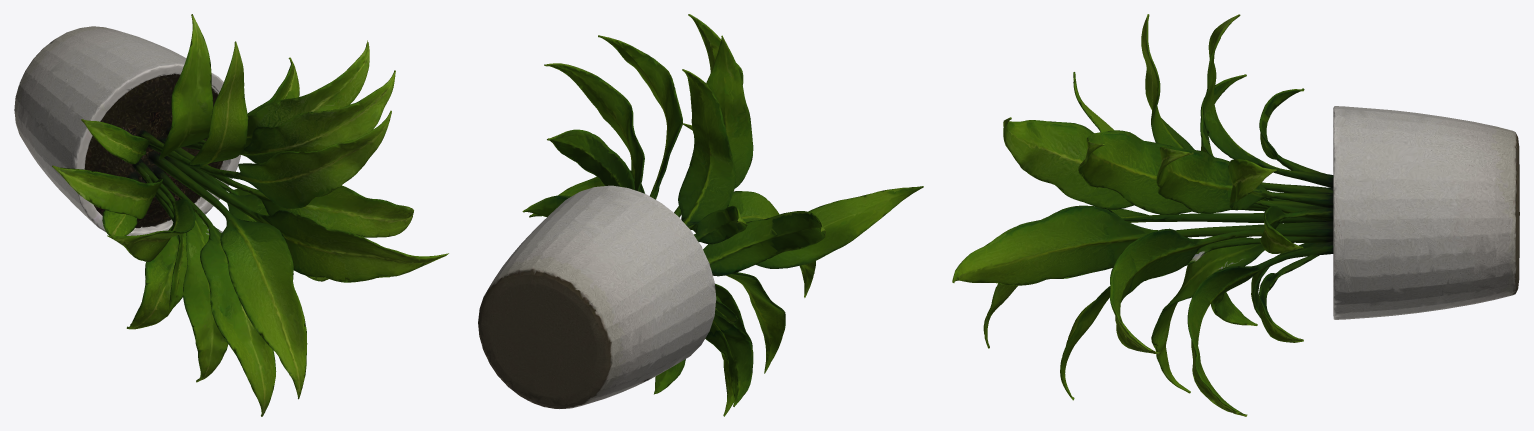
The model's file is potted_plant.glb.
3 renders of one model, left to right at view 1: azimuth 30°, elevation 25°; view 2: azimuth 150°, elevation 25°; view 3: azimuth 270°, elevation 25°, orthographic. The views are drawn at different scales.
Parts seen in each view (by area): view 1: Object_2, Object_3; view 2: Object_2, Object_3; view 3: Object_2, Object_3.
Part boxes in pixels (x1,y1,x2,y2): Object_2: [14, 14, 448, 374]; Object_3: [17, 56, 425, 416]; Object_2: [478, 14, 916, 408]; Object_3: [479, 15, 923, 416]; Object_2: [952, 14, 1519, 313]; Object_3: [954, 72, 1519, 416].
Size of the model in its own units: 0.7668 by 0.7454 by 0.9812.
Materials: 1 (1 with a texture image).
